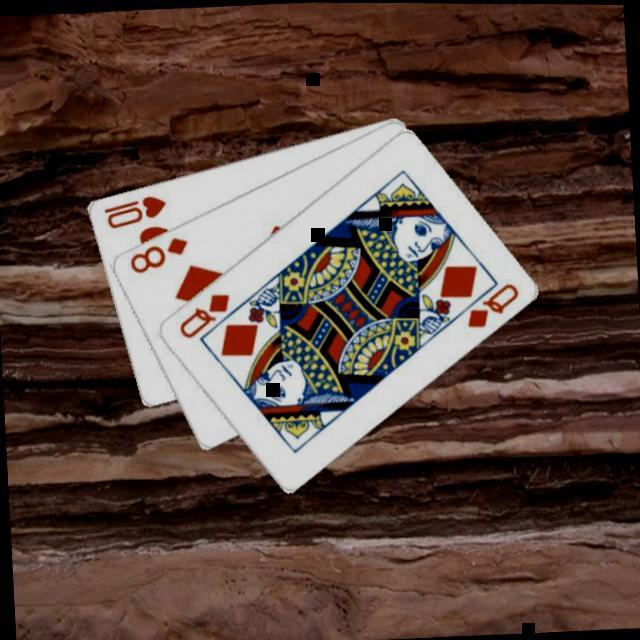10H: (102, 190, 172, 232)
8D: (126, 232, 194, 276)
QD: (462, 278, 525, 330), (176, 288, 237, 341)
